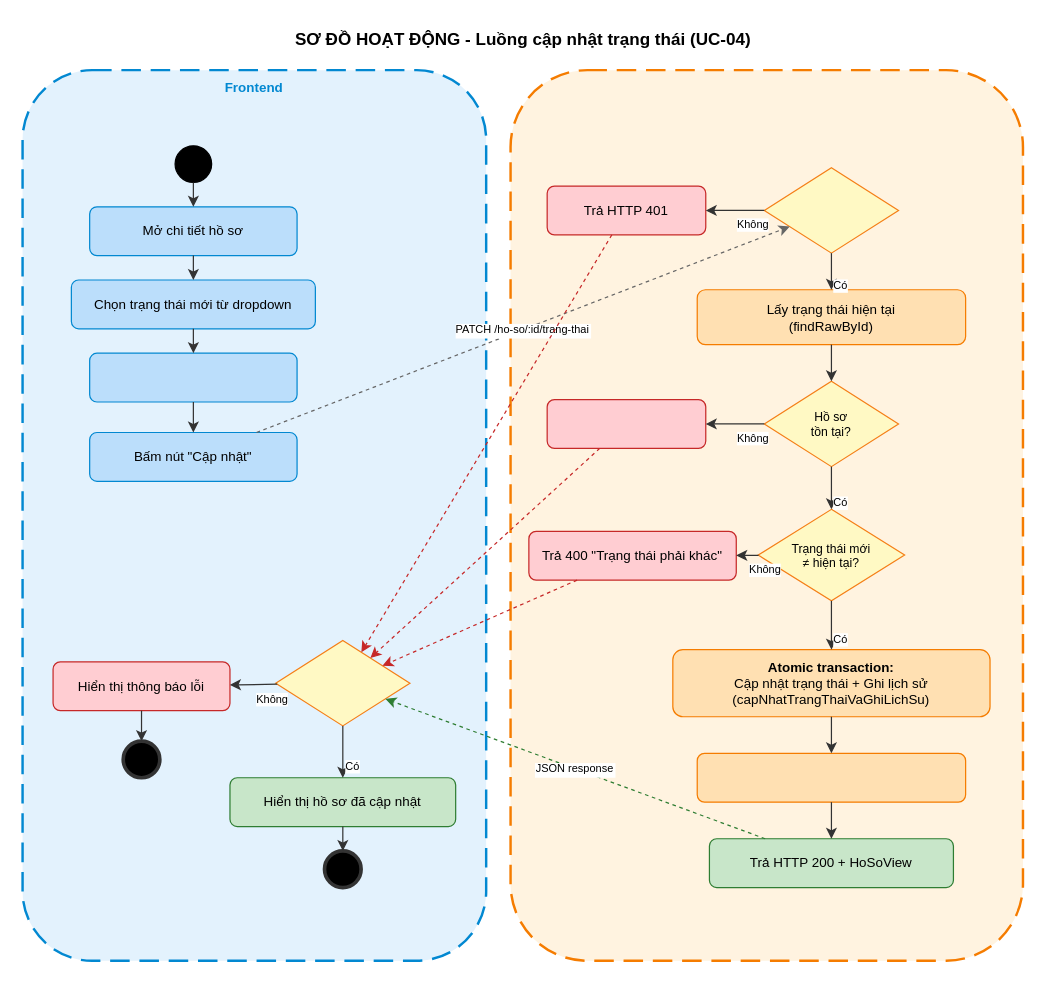
Image size: 1044x982. Some labels were removed from this diagram. The shapes that lost their labels are listed below. From the top down, each one's box as (x1, y1, x2, y2) in pixels, then its label:
(763, 167, 899, 253): Token JWT hợp lệ?
(88, 352, 297, 402): Nhập ghi chú lý do
(546, 398, 706, 448): Trả HTTP 404
(509, 68, 1024, 961): Backend (Node.js)
(274, 639, 410, 726): Thành công?
(696, 752, 966, 802): SELECT JOIN lấy HoSoView đầy đủ
